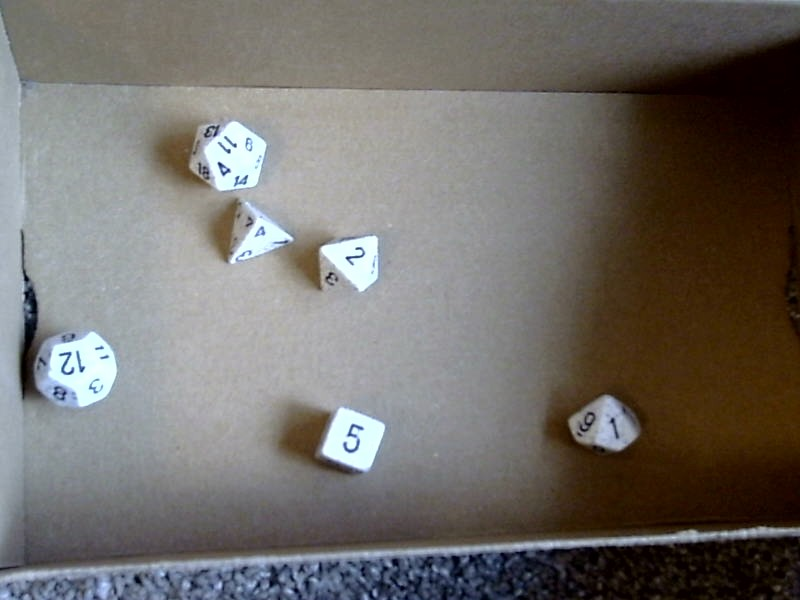d10 1: (558, 392, 652, 464)
d12 12: (22, 320, 125, 417)
d20 11: (181, 114, 267, 193)
d4 4: (215, 197, 296, 269)
d6 5: (307, 402, 393, 487)
d8 2: (311, 230, 387, 302)
